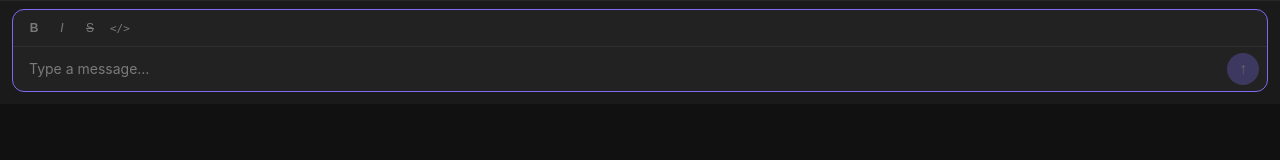
Test: ChatInput — rendering › enables button when text is entered
This screenshot has width=1280, height=160.
Type "ciao" into the field at [621, 69], box [21,53,1221,85]
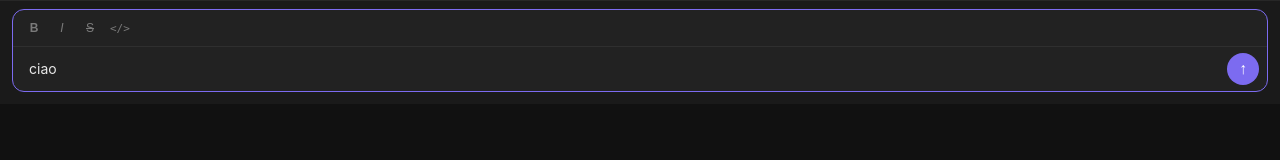
Check: the button named "send" is enabled, box [1227,53,1259,85]
